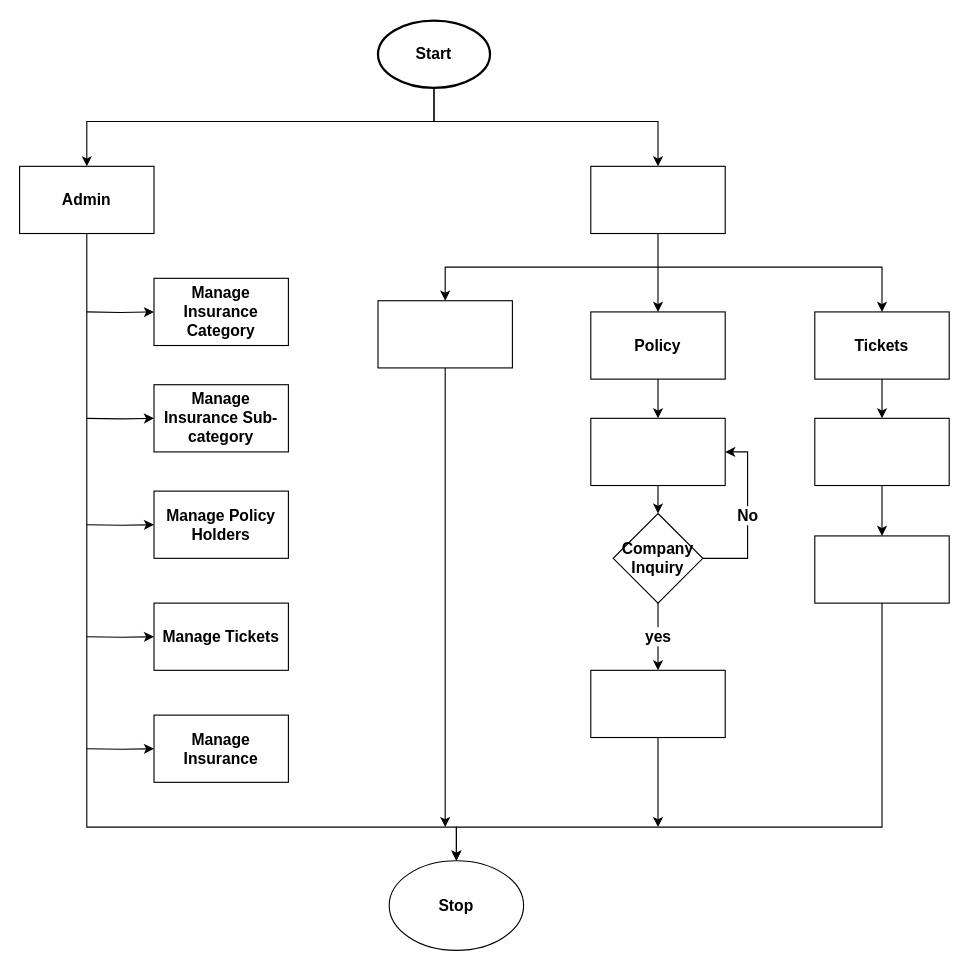
Image size: 969x970. Some labels were removed from this diagram. The shapes that lost their labels are listed below. From the top down, each one's centre as x and y in pixels, then its label:
At point (657, 199): "Customer".
At point (444, 334): "Insurance Information".
At point (657, 451): "Apply for Policy".
At point (881, 451): "Raise a Ticket".
At point (881, 569): "View Ticket Status".
At point (657, 703): "View/Upgrade Policy".
